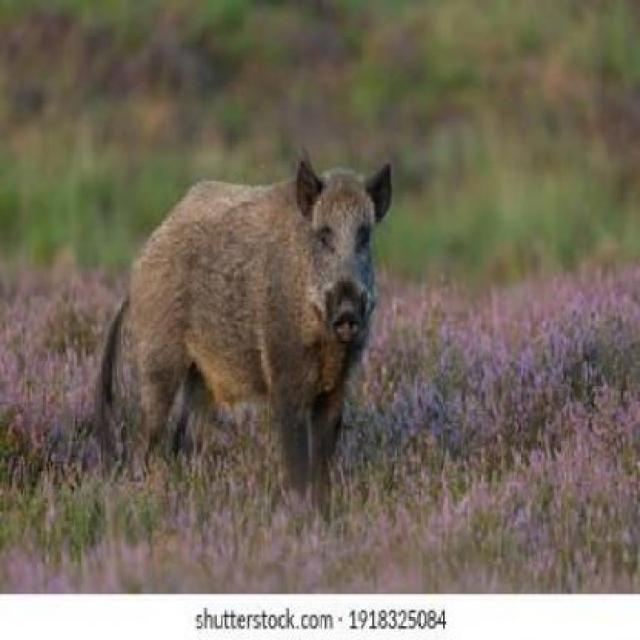wildboar: (94, 148, 398, 530)
